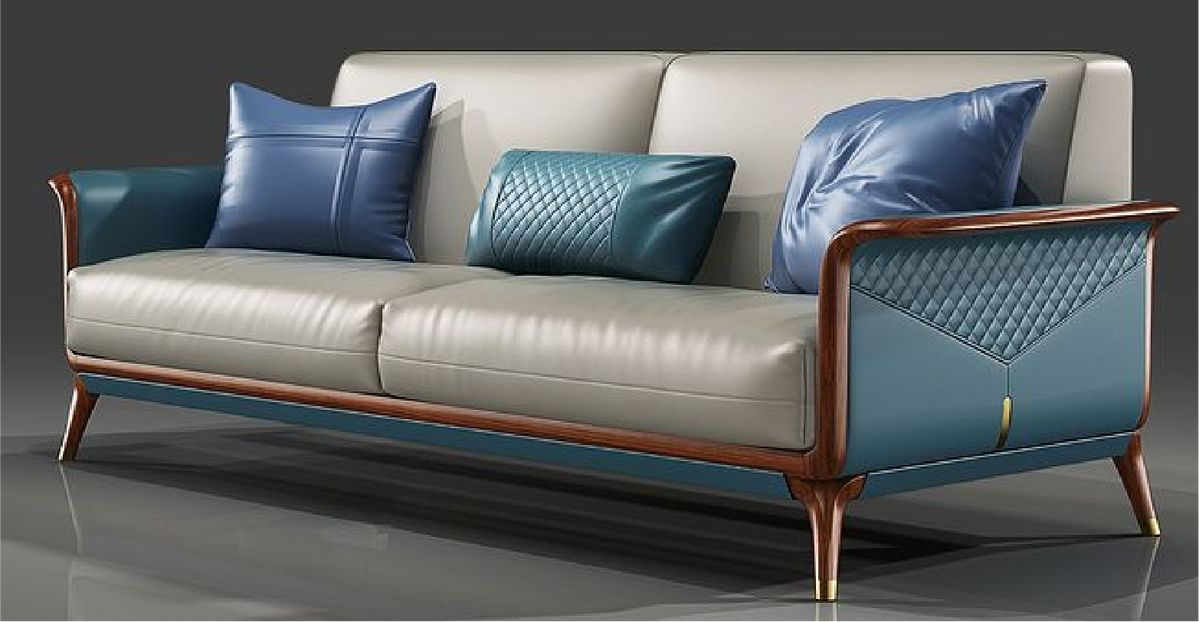3seatersofa: (50, 52, 1179, 601)
backrest: (331, 52, 1131, 288)
base: (71, 355, 842, 497)
leftarmrest: (807, 202, 1178, 493)
leg: (788, 475, 865, 600), (1113, 437, 1160, 536), (59, 380, 95, 460)
pillow: (768, 82, 1042, 292), (208, 83, 435, 260), (467, 149, 735, 281)
rightarmrest: (49, 165, 222, 277)
seat: (67, 249, 816, 447)
